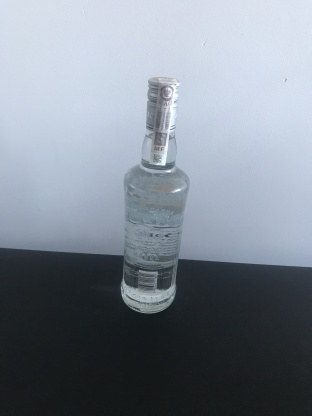nakretka: (143, 72, 182, 134)
